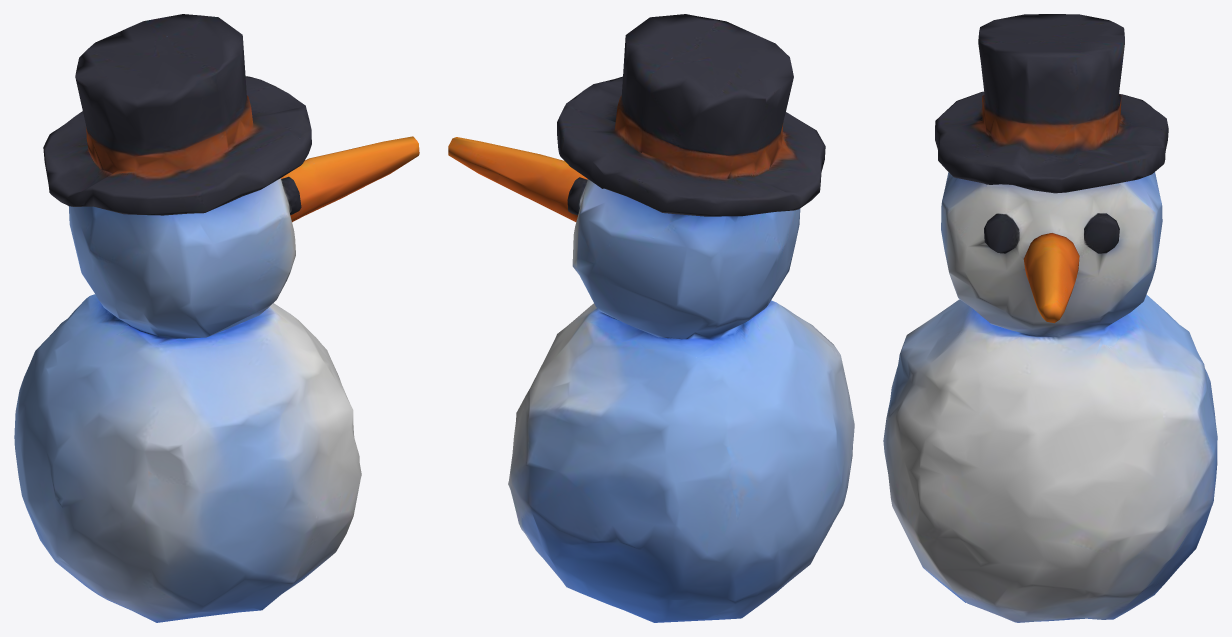
File: snowman.glb
The picture shows the model from 3 angles, left to right: view 1: azimuth 30°, elevation 25°; view 2: azimuth 150°, elevation 25°; view 3: azimuth 270°, elevation 25°; orthographic projection.
Visible parts, largest first — view 1: tripo_node_8ce08c43-d8fa-4315-8036-4a7ac0aedc61; view 2: tripo_node_8ce08c43-d8fa-4315-8036-4a7ac0aedc61; view 3: tripo_node_8ce08c43-d8fa-4315-8036-4a7ac0aedc61.
Part boxes in pixels (x1,y1,x2,y2): tripo_node_8ce08c43-d8fa-4315-8036-4a7ac0aedc61: [14, 14, 419, 622]; tripo_node_8ce08c43-d8fa-4315-8036-4a7ac0aedc61: [448, 14, 854, 622]; tripo_node_8ce08c43-d8fa-4315-8036-4a7ac0aedc61: [883, 14, 1217, 622].
Size of the model in its own units: 0.7108 by 1 by 0.5487.
1 material, 1 textured.
